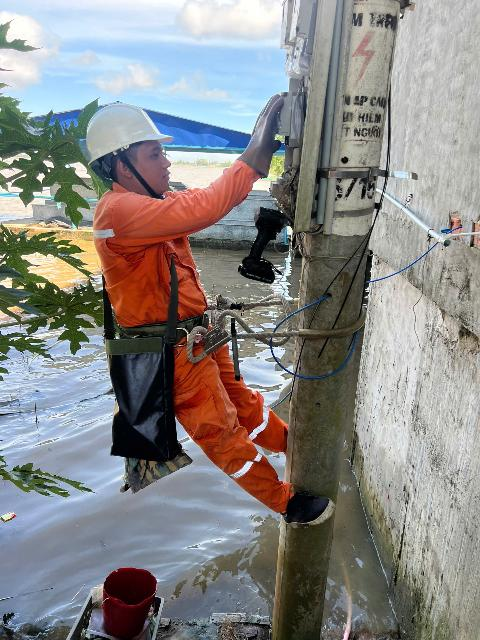gloves: (245, 90, 279, 184)
harness: (94, 301, 222, 352)
helmet: (71, 102, 182, 172)
shoes: (251, 492, 345, 531)
